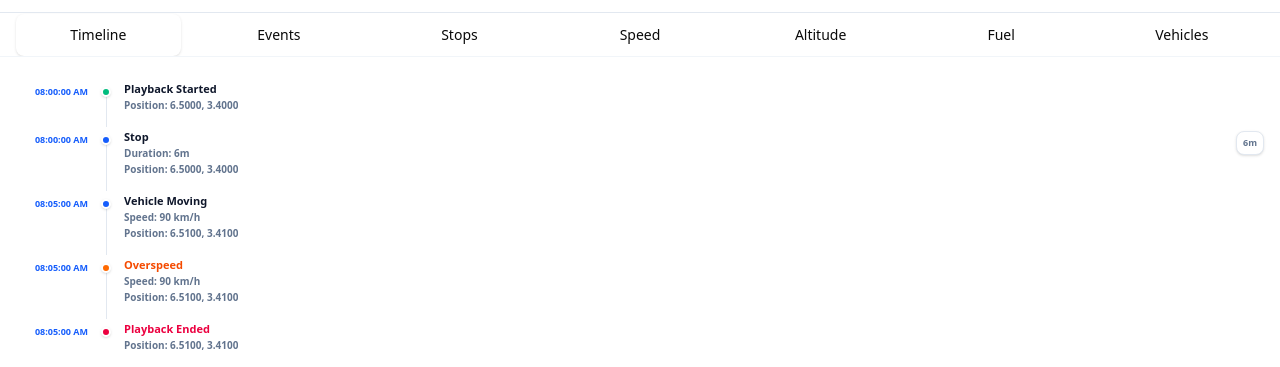
PlaybackBottomPanel › switches to the Events tab and shows only events
Press the mouse on the tab "Events": (279, 34) [197,14,361,56]
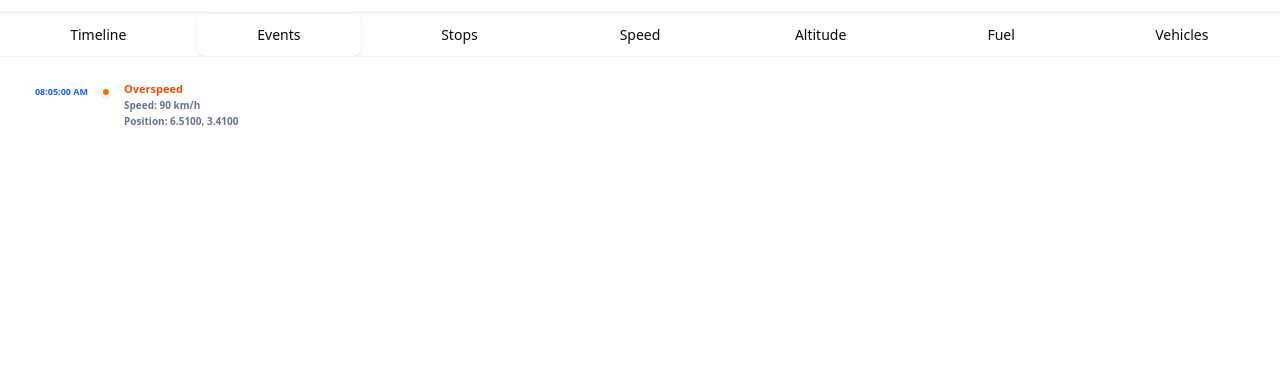
Expected: the text "Overspeed" is shown, [124,81,183,96]
Now the button "Playback Started" is gone
